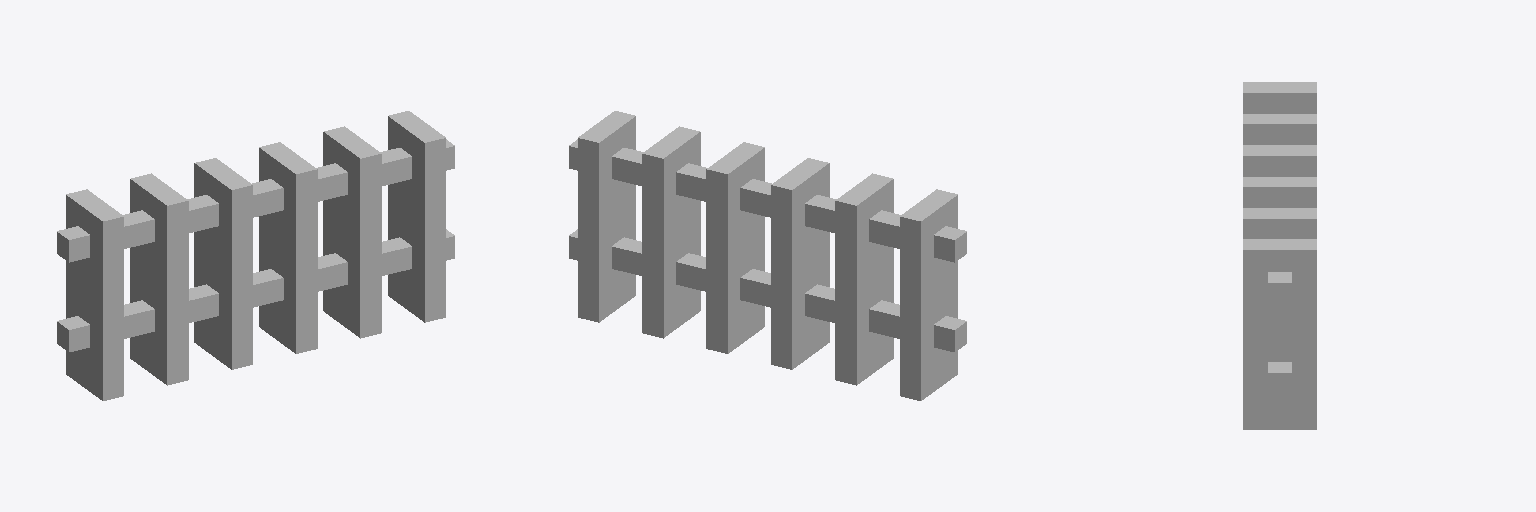
The model's file is Fence.obj.
3 views of the same model, side by side, from view 1: azimuth 30°, elevation 25°; view 2: azimuth 150°, elevation 25°; view 3: azimuth 270°, elevation 25° (orthographic).
Size of the model in its own units: 18 by 8 by 3.